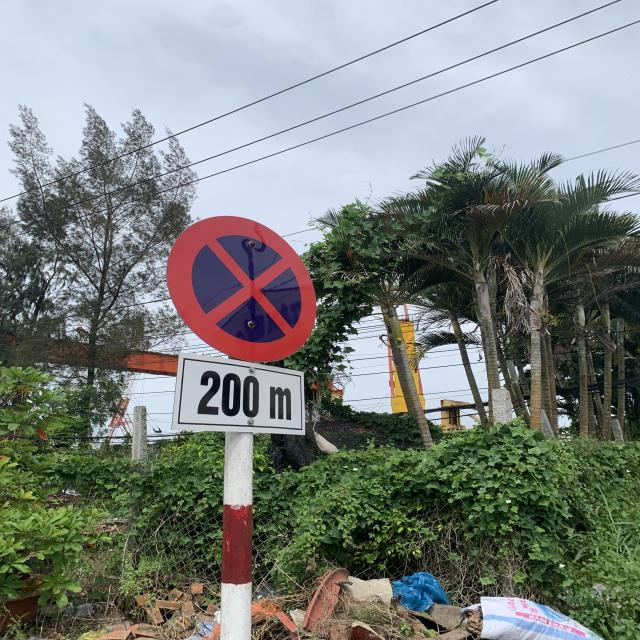Cam_Dung_Va_Dau_Xe: (167, 213, 316, 362)
